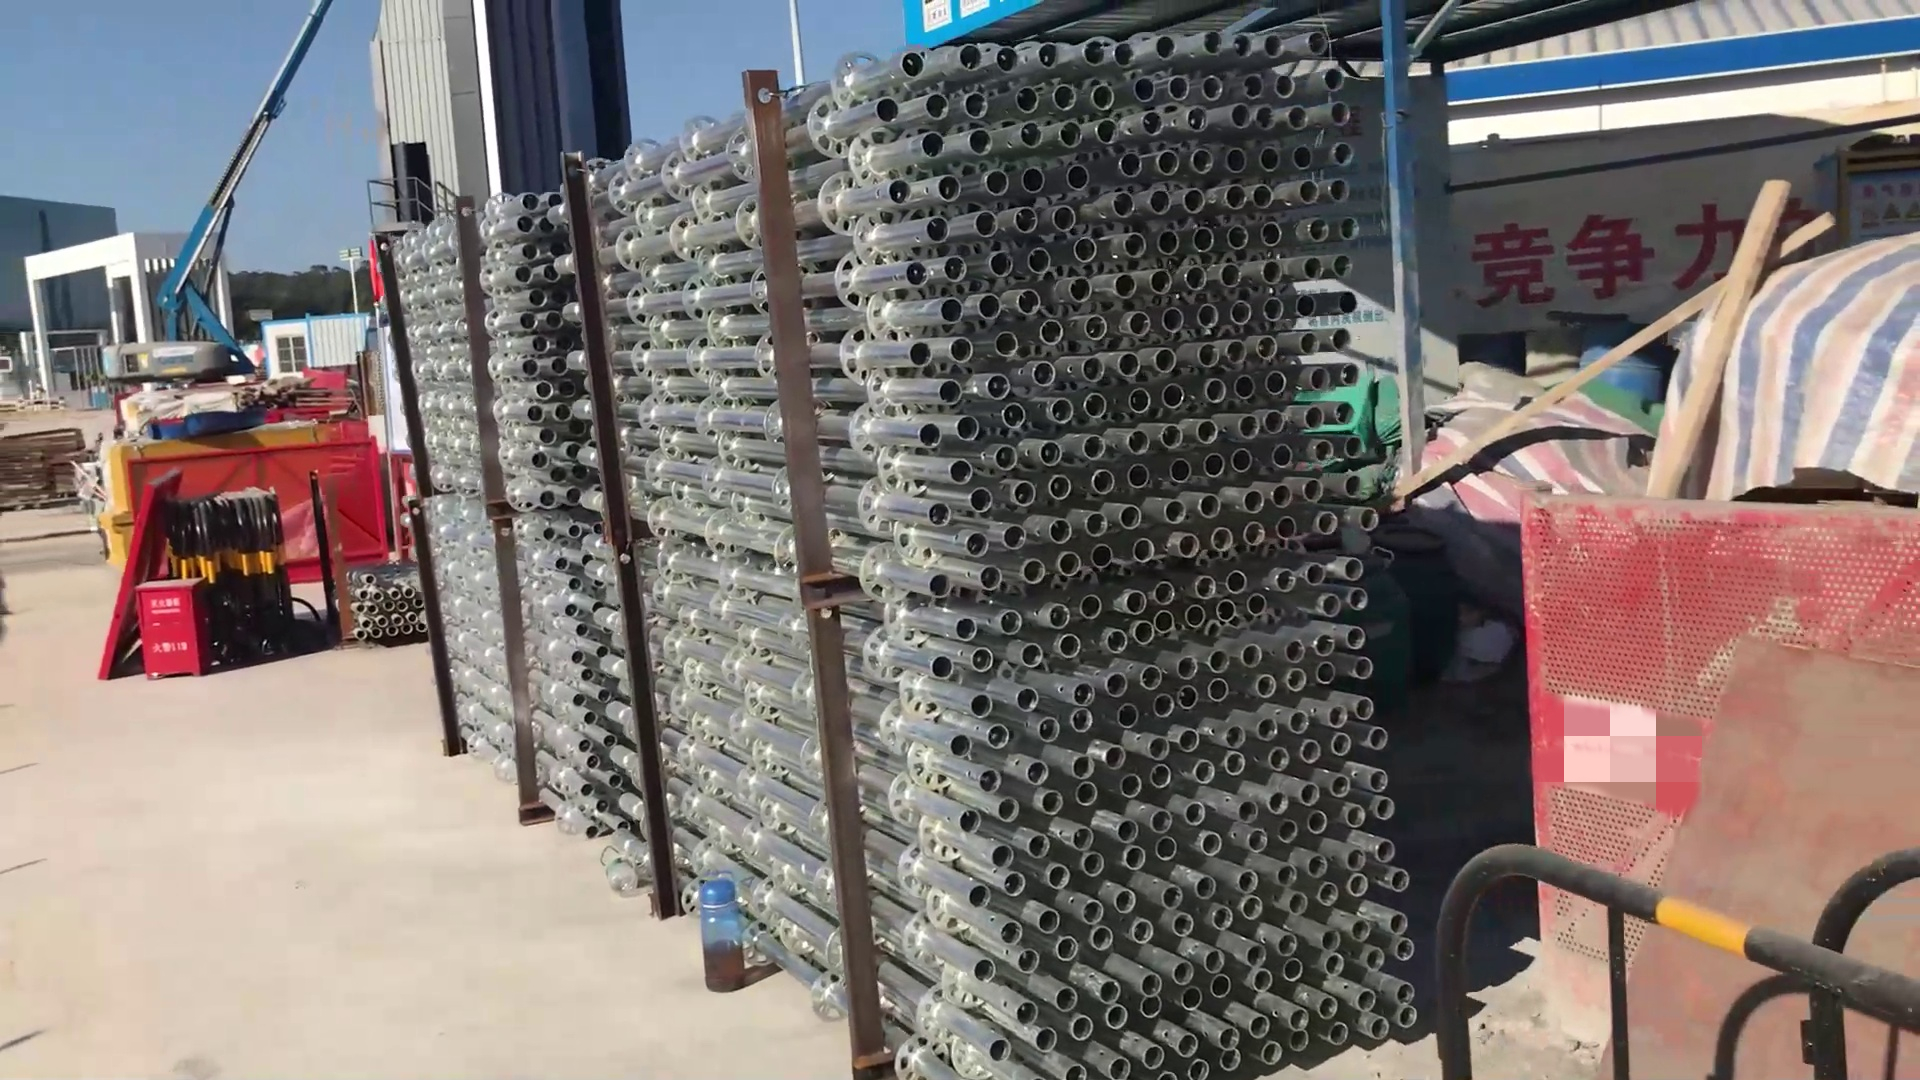fence: (1522, 487, 1920, 1079), (1435, 837, 1920, 1080), (124, 436, 397, 570), (162, 493, 295, 665)
scaffold: (592, 57, 1420, 1077), (385, 211, 620, 864), (344, 558, 425, 641)
